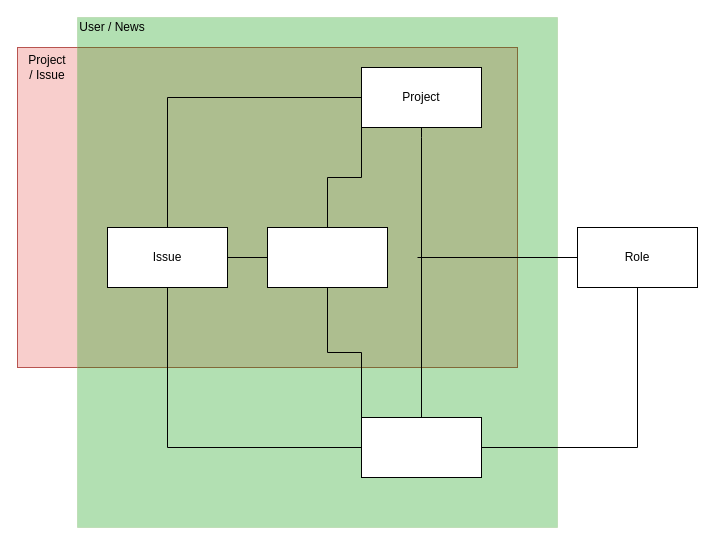
Image size: 715x545. Some labels were removed from this diagram. Here are the shapes that lost their labels. From the top down, the centre of each, then its label:
At point 327,257: "News".
At point 421,447: "User".
